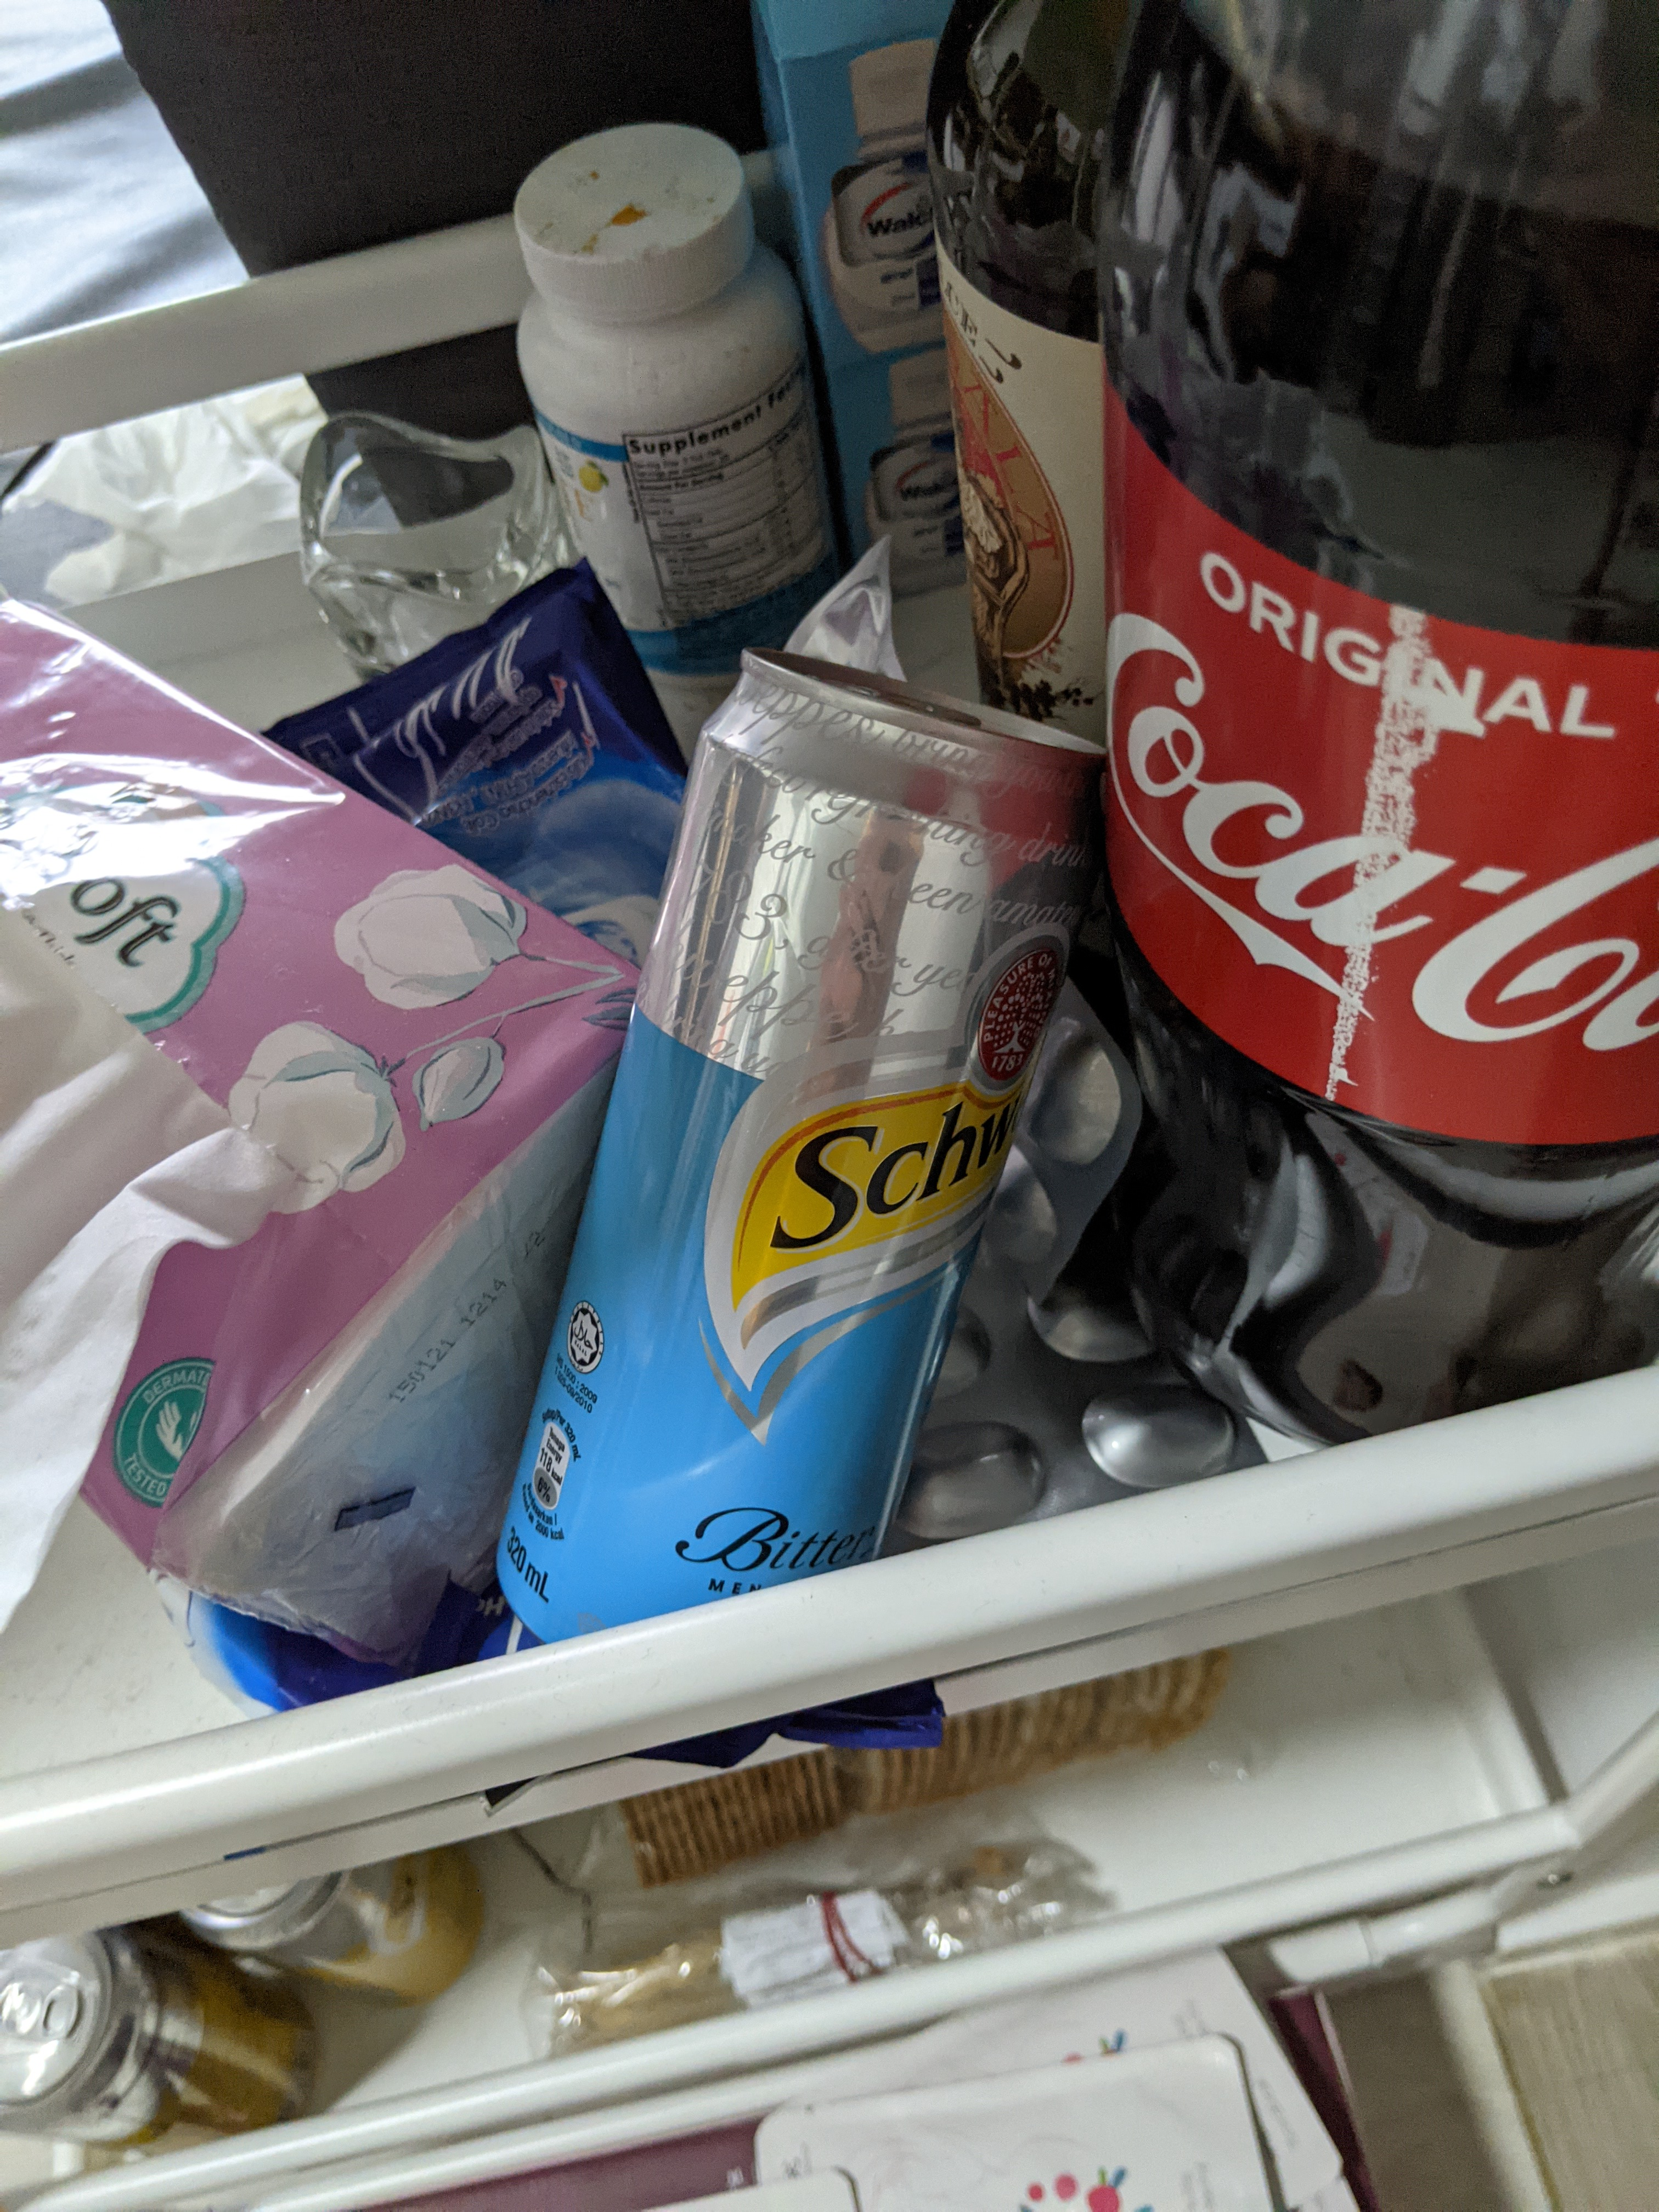schweppes drink can bitter lemon: (453, 580, 1178, 1827)
